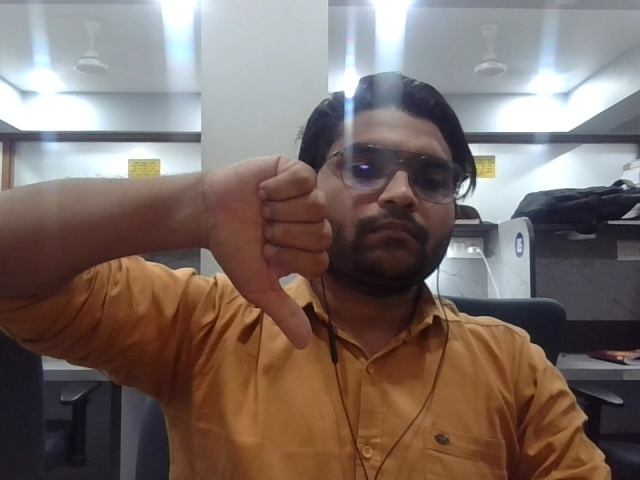ThumbsDown: (205, 156, 344, 352)
